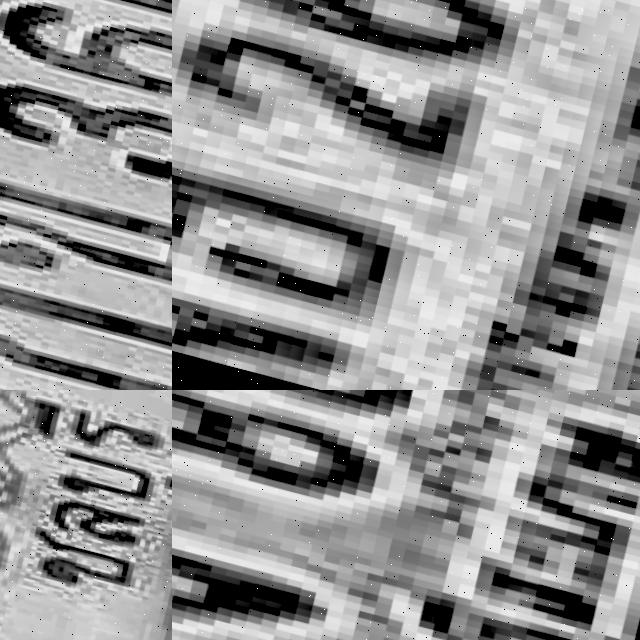license-plate: (172, 0, 640, 390), (172, 390, 640, 640), (0, 0, 172, 390), (0, 390, 172, 640)
